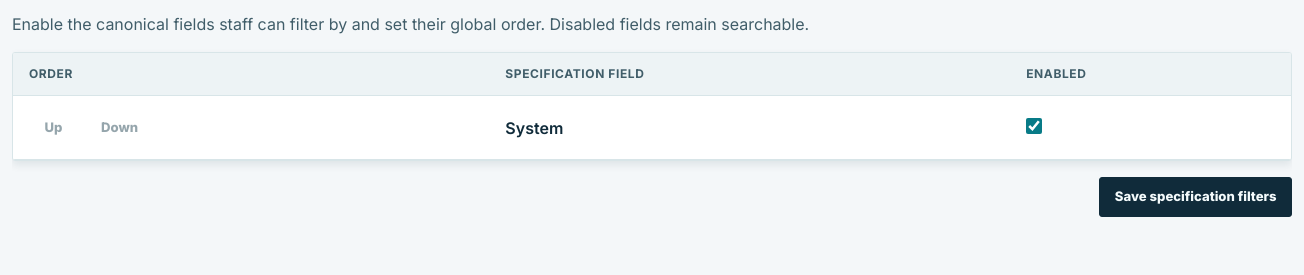
Test: SpecificationFiltersEditor › reports a successful global configuration save
Step 1. Click the button "Save specification filters" → [1196, 197], box 1099,177 -> 1292,217
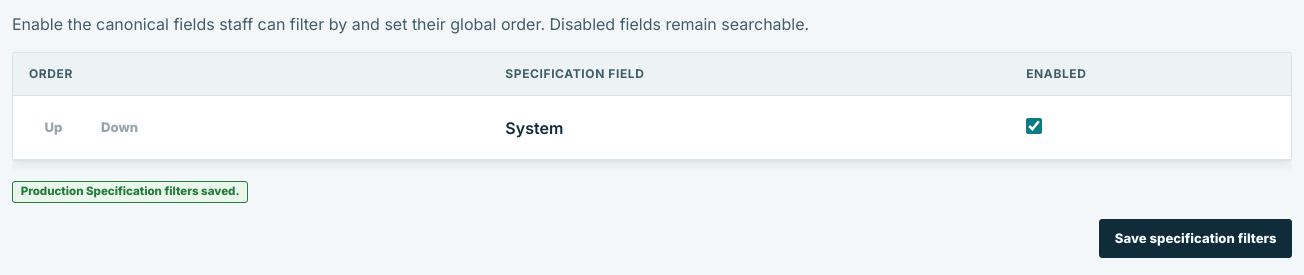
Expected: the message reads "Production Specification filters saved.", 21,184 -> 240,198
